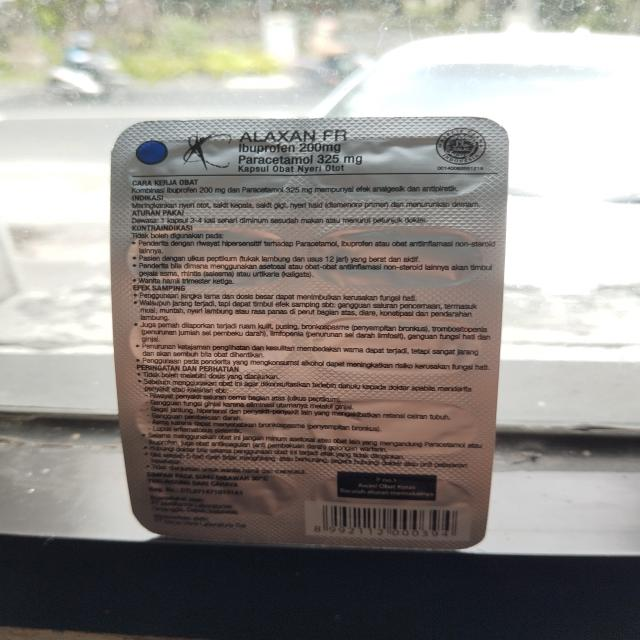B3: (110, 116, 513, 550)
